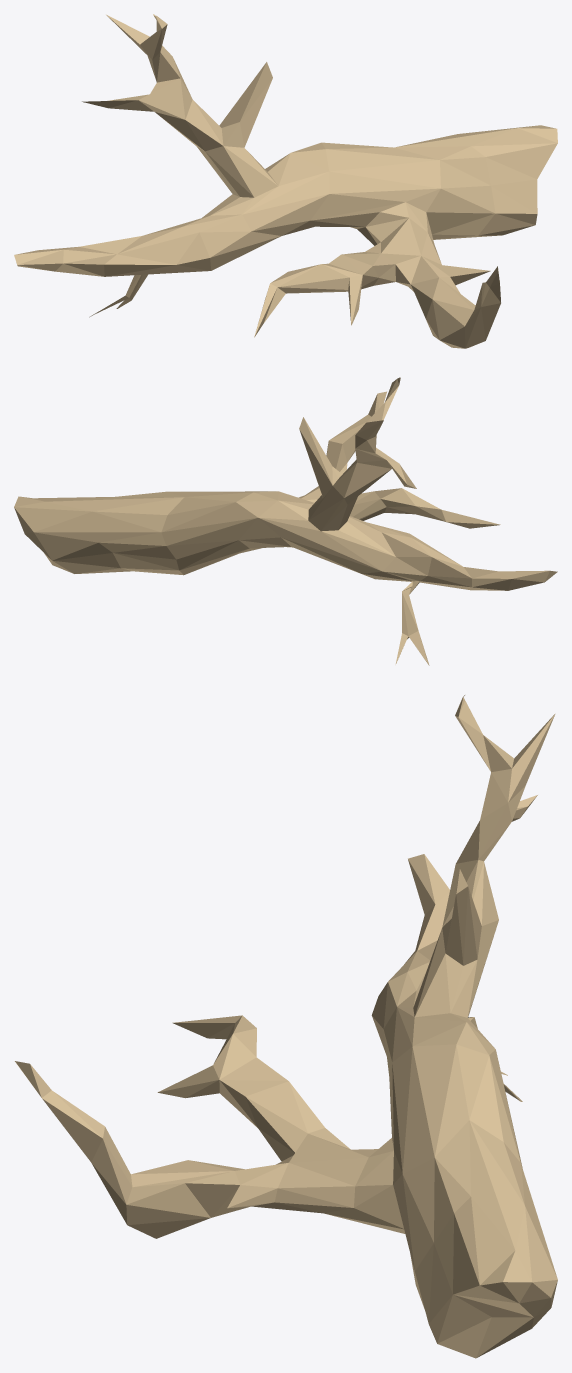
Rendered from BranchLP.fbx.
3 renders of one model, top to bottom at view 1: azimuth 30°, elevation 25°; view 2: azimuth 150°, elevation 25°; view 3: azimuth 270°, elevation 25°, orthographic. The views are drawn at different scales.
Visible parts, largest first — view 1: BranchLP1:Group13205; view 2: BranchLP1:Group13205; view 3: BranchLP1:Group13205.
Boxes of the visible parts, left/top/right/bottom form: BranchLP1:Group13205: left=14, top=14, right=557, bottom=348; BranchLP1:Group13205: left=14, top=377, right=557, bottom=665; BranchLP1:Group13205: left=14, top=695, right=557, bottom=1358.
Size of the model in its own units: 16.93 by 8.63 by 10.17.
